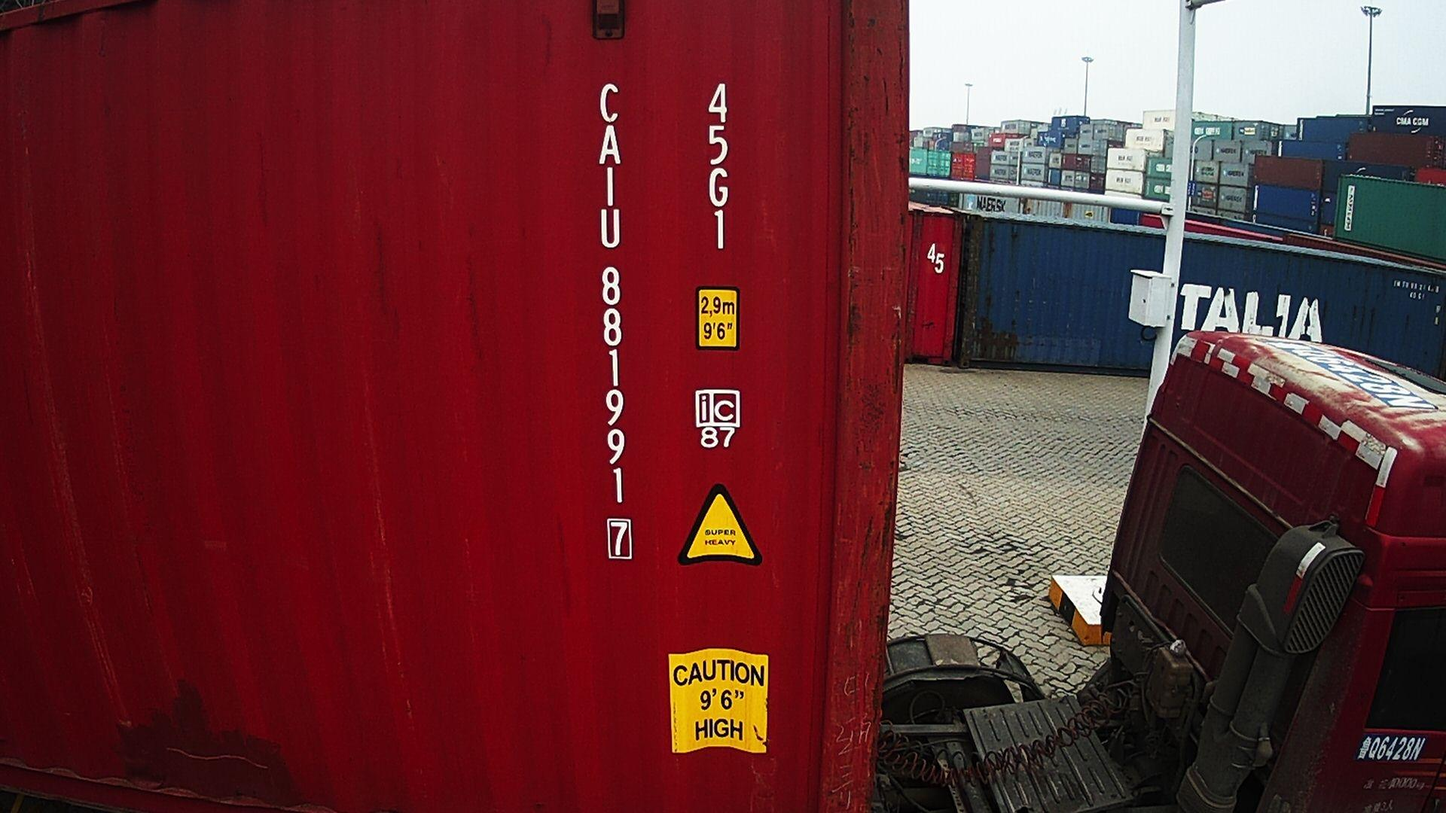container-numbers: (590, 73, 638, 569), (702, 79, 738, 255)
